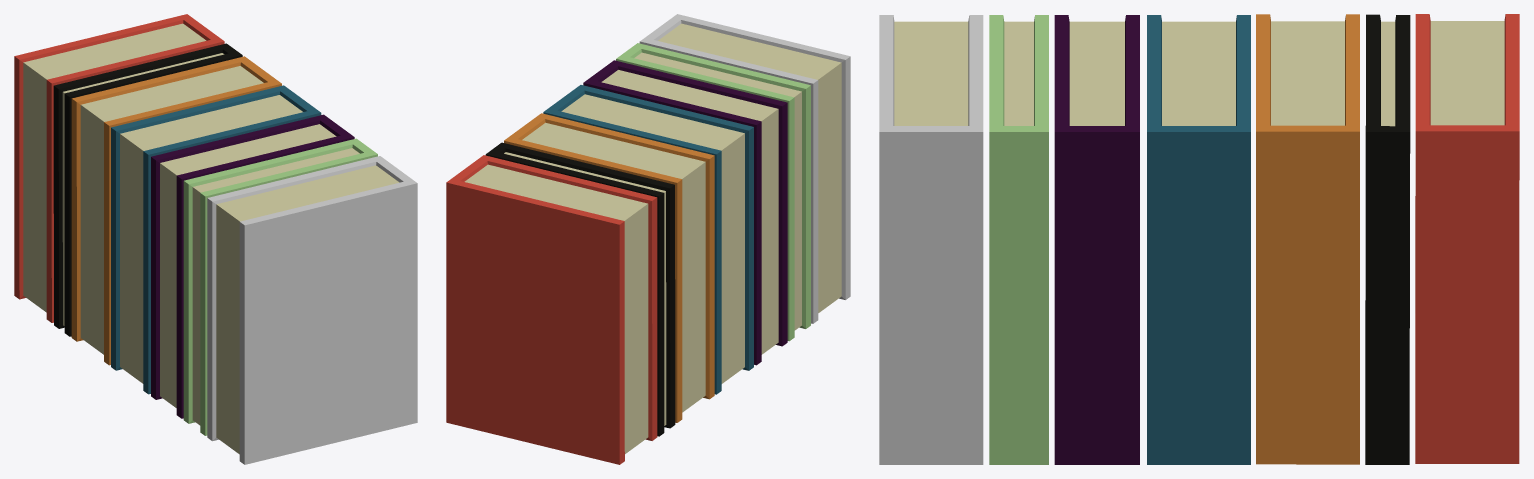
File: libros2.fbx
3 views of the same model, side by side, from view 1: azimuth 30°, elevation 25°; view 2: azimuth 150°, elevation 25°; view 3: azimuth 270°, elevation 25° (orthographic). The views are drawn at different scales.
Visible parts, largest first — view 1: libros2-01, libros2-07, libros2-04, libros2-05, libros2-03, libros2-02, libros2-06; view 2: libros2-07, libros2-05, libros2-01, libros2-04, libros2-03, libros2-02, libros2-06; view 3: libros2-01, libros2-07, libros2-05, libros2-04, libros2-03, libros2-02, libros2-06.
Part boxes in pixels (bbox=[...]): libros2-01: bbox=[207, 156, 417, 464]; libros2-07: bbox=[14, 14, 224, 322]; libros2-04: bbox=[111, 85, 321, 394]; libros2-05: bbox=[71, 56, 281, 365]; libros2-03: bbox=[151, 114, 354, 418]; libros2-02: bbox=[183, 138, 377, 435]; libros2-06: bbox=[53, 43, 242, 336]; libros2-07: bbox=[446, 155, 657, 464]; libros2-05: bbox=[504, 113, 714, 422]; libros2-01: bbox=[639, 14, 850, 323]; libros2-04: bbox=[543, 85, 753, 394]; libros2-03: bbox=[583, 60, 787, 365]; libros2-02: bbox=[616, 43, 810, 341]; libros2-06: bbox=[485, 142, 675, 436]; libros2-01: bbox=[879, 15, 983, 464]; libros2-07: bbox=[1415, 14, 1519, 463]; libros2-05: bbox=[1256, 14, 1359, 464]; libros2-04: bbox=[1147, 15, 1250, 464]; libros2-03: bbox=[1054, 15, 1139, 464]; libros2-02: bbox=[989, 15, 1048, 464]; libros2-06: bbox=[1365, 14, 1410, 464].
Size of the model in its own units: 534 by 709 by 1232.
